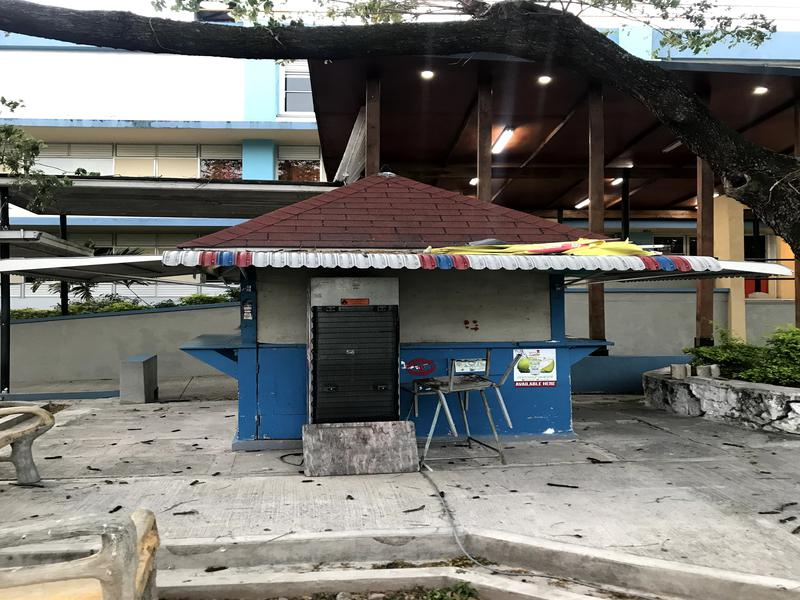18.0051667_-76.74944412_librarystall: (155, 152, 677, 478)
